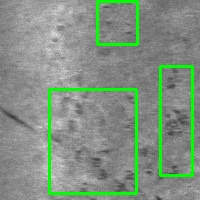rolled-in_scale: (49, 89, 136, 193), (160, 66, 192, 175), (97, 1, 137, 44)
